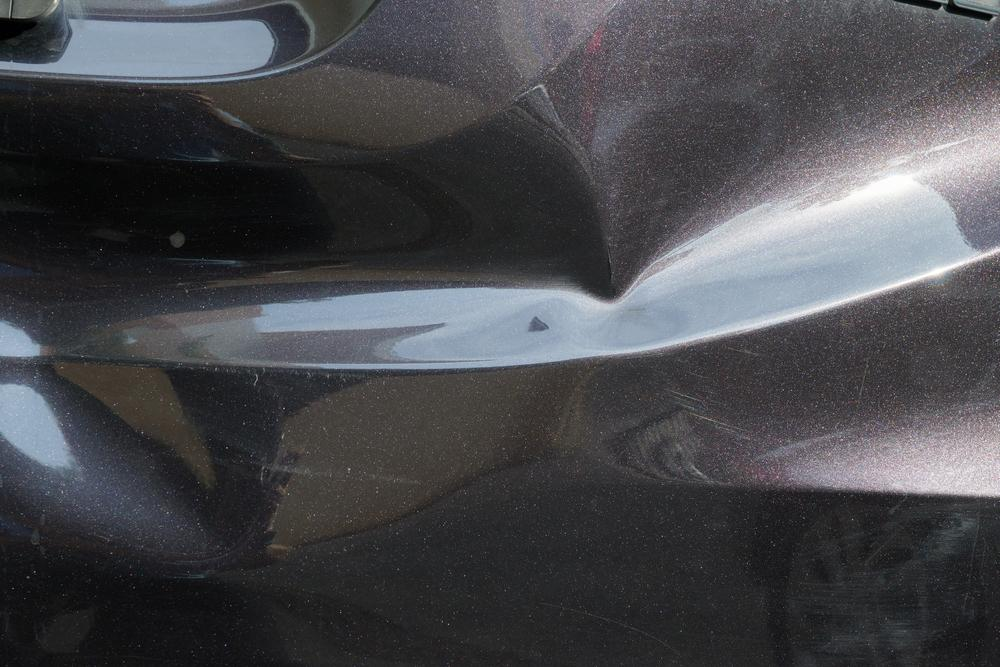dent: (0, 93, 769, 535)
